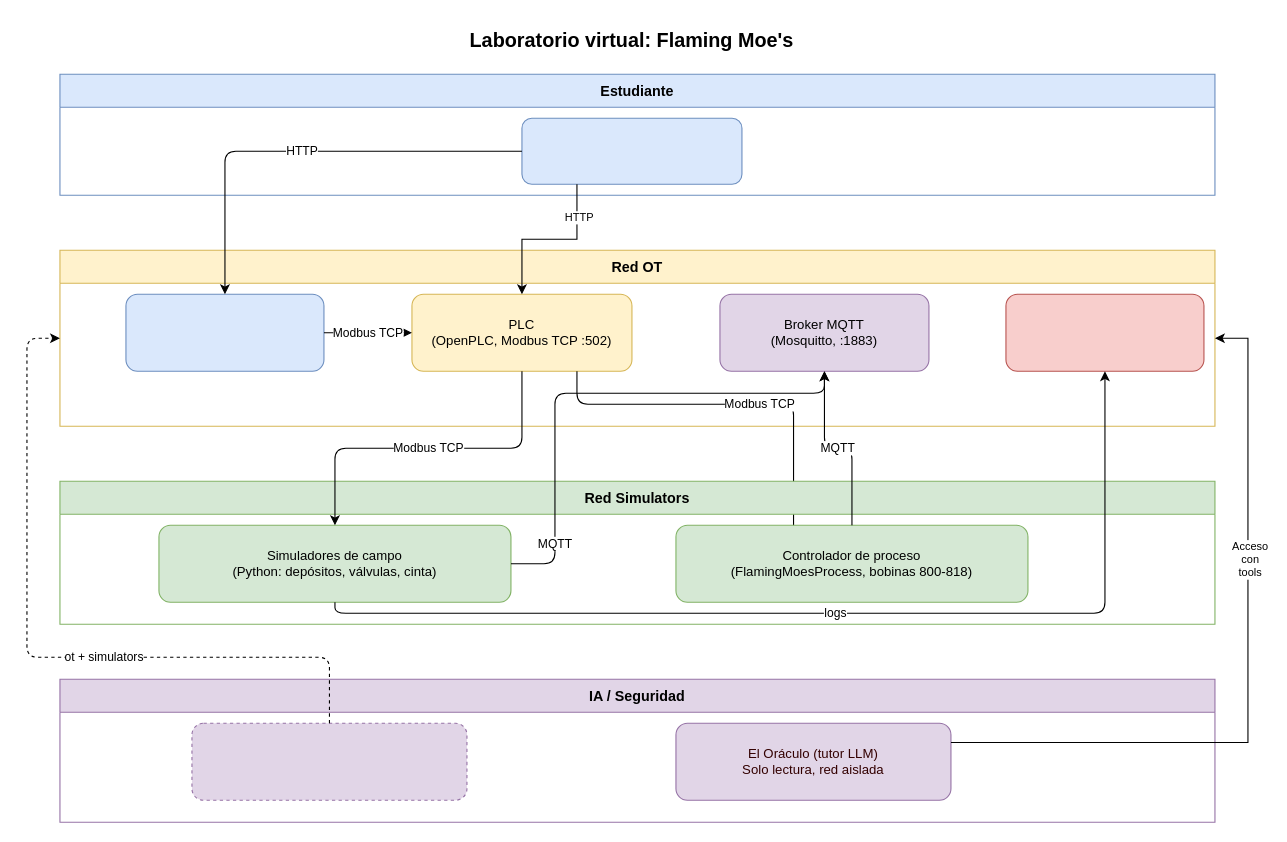
The diagram is 1287 pixels wide and 842 high, and some of its shapes have lost their labels. The box of each missing label's shape, as (x1, y1, x2, y2) in pixels:
CAI (agente ofensivo) Redes ot + simulators: (191, 722, 467, 800)
HMI (FUXA, HTTP :1881): (125, 293, 324, 371)
Observabilidad (OpenSearch :9200/:5601): (1005, 293, 1204, 371)
Operador / Estudiante Navegador web: (521, 117, 742, 184)
